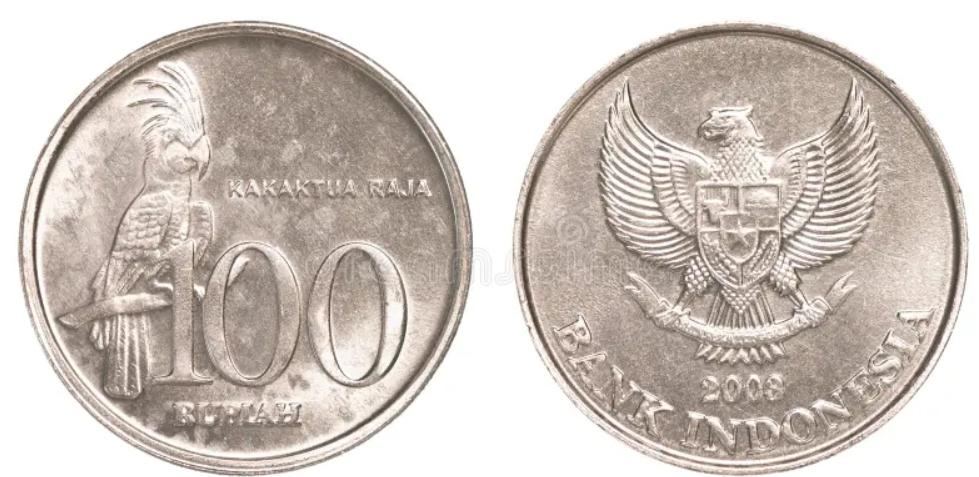coin_100_e1999: (16, 22, 475, 477)
